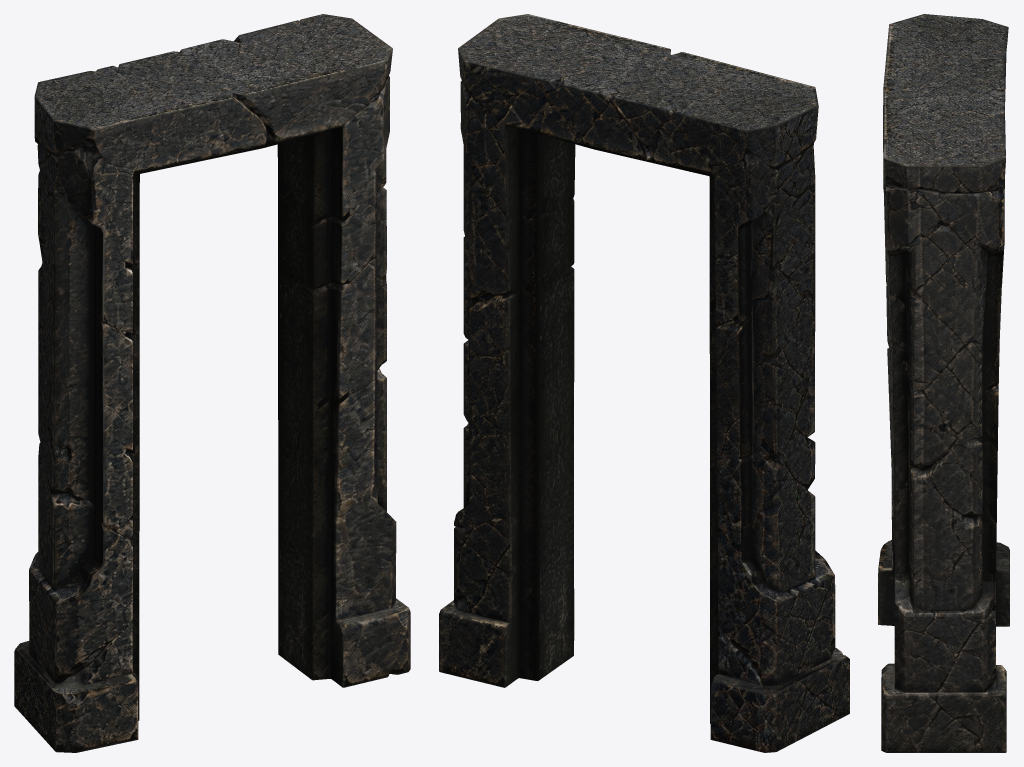
The model's file is Portal_principal.glb.
3 views of the same model, side by side, from view 1: azimuth 30°, elevation 25°; view 2: azimuth 150°, elevation 25°; view 3: azimuth 270°, elevation 25° (orthographic). The views are drawn at different scales.
Parts seen in each view (by area): view 1: tripo_node_d4cd6fb8-0d94-4ae6-bda3-3cdd1617c576; view 2: tripo_node_d4cd6fb8-0d94-4ae6-bda3-3cdd1617c576; view 3: tripo_node_d4cd6fb8-0d94-4ae6-bda3-3cdd1617c576.
Part boxes in pixels (left/top/right/bottom): tripo_node_d4cd6fb8-0d94-4ae6-bda3-3cdd1617c576: left=14, top=14, right=410, bottom=752; tripo_node_d4cd6fb8-0d94-4ae6-bda3-3cdd1617c576: left=439, top=14, right=849, bottom=752; tripo_node_d4cd6fb8-0d94-4ae6-bda3-3cdd1617c576: left=878, top=14, right=1009, bottom=752.
Size of the model in its own units: 0.5972 by 0.9995 by 0.2046.
Materials: 1 (1 with a texture image).
